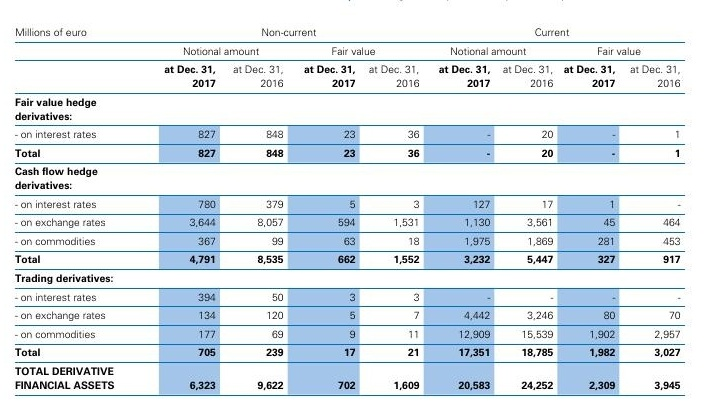table: (0, 0, 704, 412)
